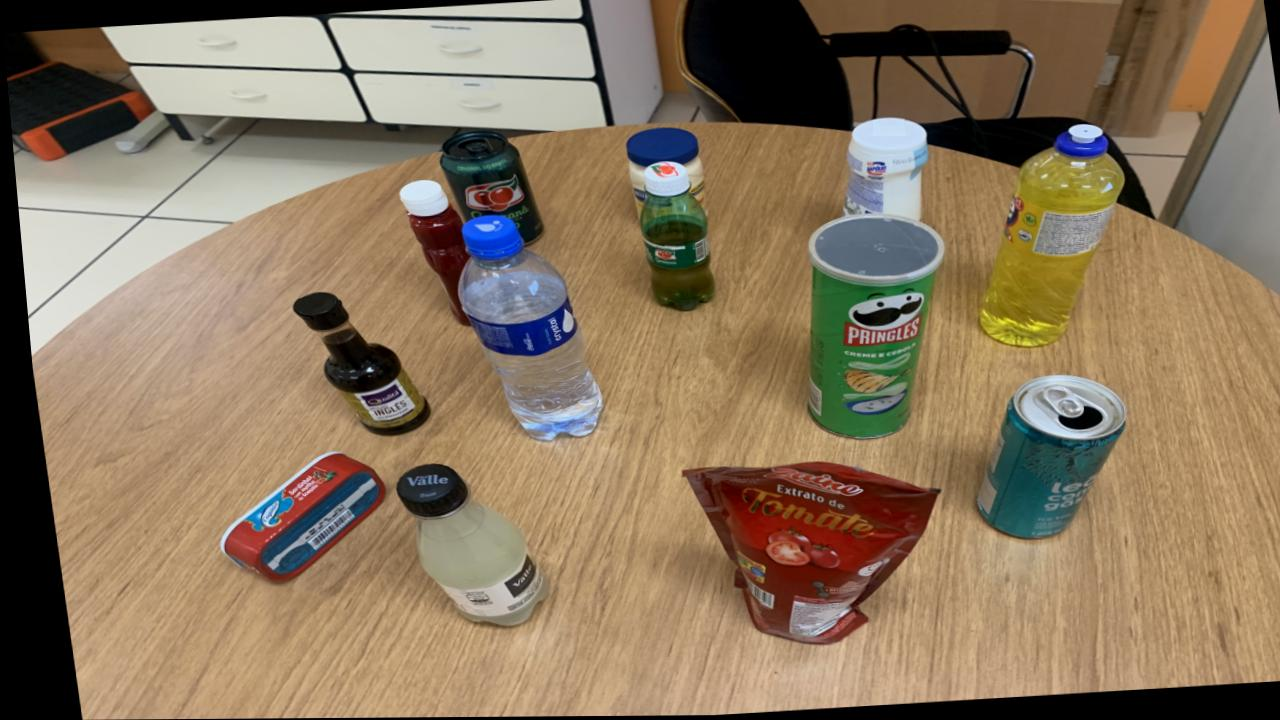Cleaner-Cleanup_Items: (840, 119, 926, 221)
Detergent-Cleanup_Items: (973, 125, 1120, 349)
English_Sauce-Pantry_Items: (288, 292, 422, 436)
Guarana-Drinks: (635, 162, 709, 312)
Guarana_Can-Drinks: (436, 131, 539, 244)
Ketchup-Pantry_Items: (395, 180, 464, 327)
Mayonnaise-Pantry_Items: (622, 128, 704, 215)
Pringles-Snacks: (800, 215, 940, 440)
Soda-Drinks: (386, 464, 539, 627)
Tea-Drinks: (968, 377, 1119, 541)
Tomato_Sauce-Pantry_Items: (675, 463, 930, 646)
Tuna_Can-Pantry_Items: (209, 453, 376, 582)
Water_Bottle-Drinks: (452, 215, 595, 441)
